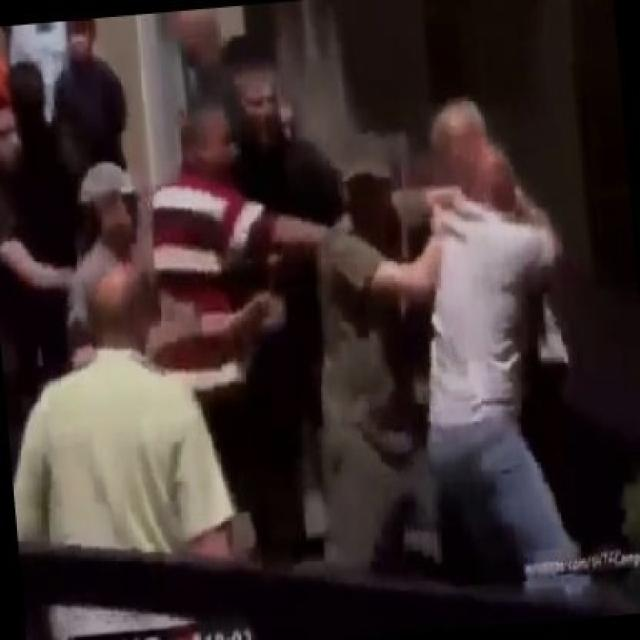fight: (394, 89, 602, 606)
non-fight: (11, 264, 235, 593), (147, 102, 326, 400), (65, 163, 286, 370), (222, 49, 343, 234), (3, 62, 80, 291), (53, 21, 128, 176)
